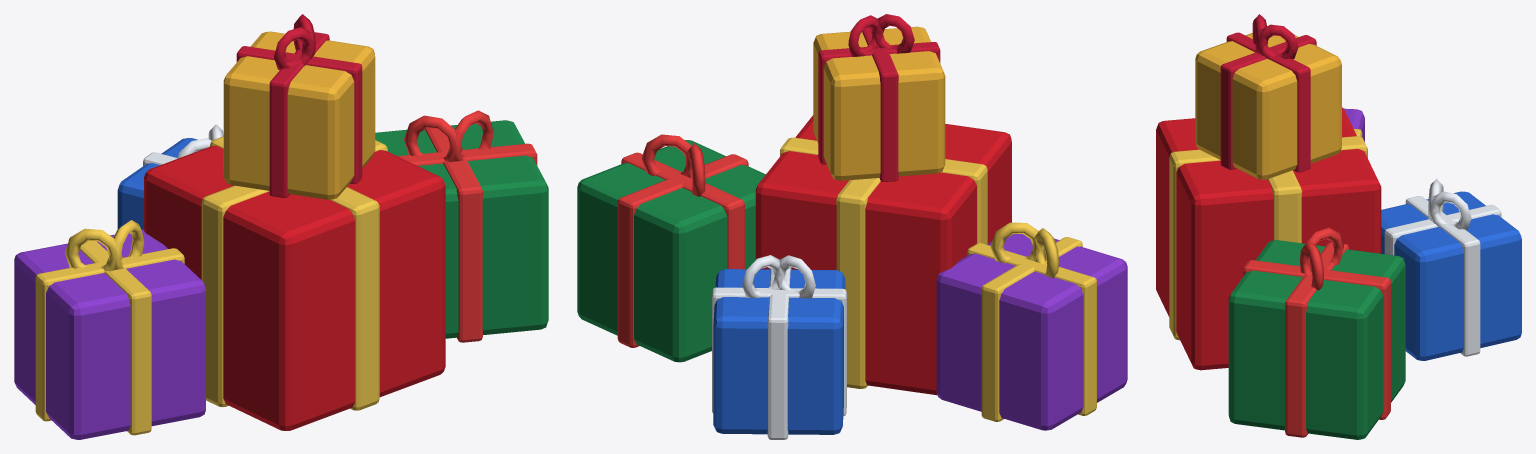
Rendered from presents.glb.
The picture shows the model from 3 angles, left to right: view 1: azimuth 30°, elevation 25°; view 2: azimuth 150°, elevation 25°; view 3: azimuth 270°, elevation 25°; orthographic projection. The views are drawn at different scales.
Parts seen in each view (by area): view 1: presents; view 2: presents; view 3: presents.
Boxes of the visible parts, box(x1,y1,x2,y2) form: presents: box(14, 14, 548, 439); presents: box(577, 14, 1127, 439); presents: box(1156, 14, 1521, 439).
Bounding box in the file's own units: 2.16 × 1.41 × 1.51.
